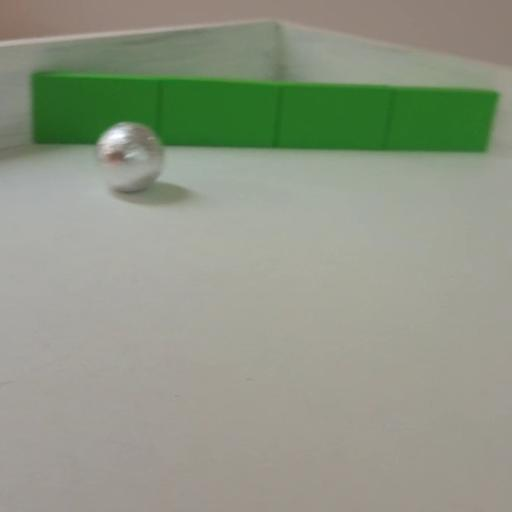alive: (96, 122, 163, 192)
